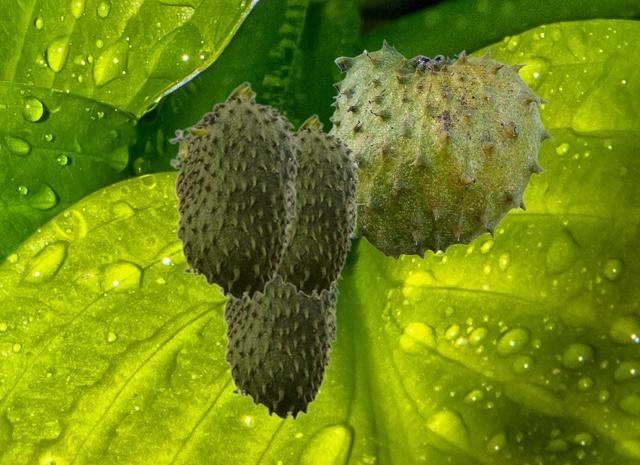guyabano: (328, 38, 553, 259), (169, 80, 302, 301), (218, 275, 342, 420), (276, 113, 361, 297)
